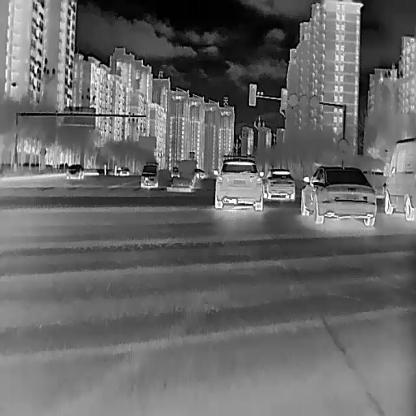car: (298, 163, 377, 225), (382, 133, 414, 221), (212, 157, 264, 210), (262, 166, 295, 200), (139, 163, 158, 187), (65, 163, 83, 179), (115, 164, 130, 176), (191, 167, 205, 179), (170, 166, 179, 176)
